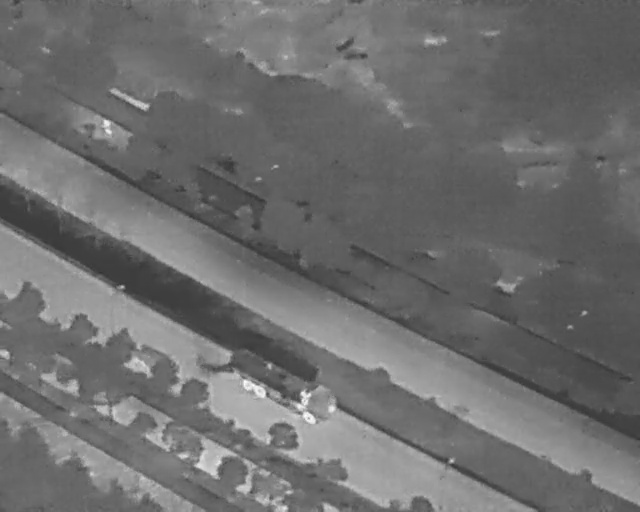OtherVehicle: (222, 345, 345, 429)
